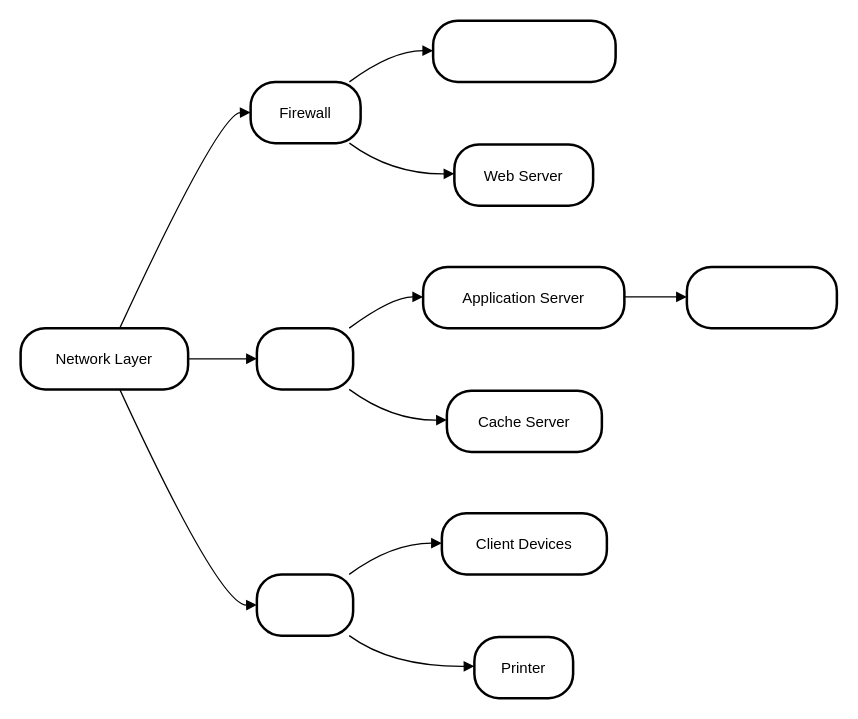
Image size: 858x719. Some labels were removed from this diagram. Here are the shapes that lost their labels. From the top down, the centre of each, then its label:
point (523, 50): Database Server
point (761, 297): API Gateway
point (304, 358): Router
point (304, 604): Switch
